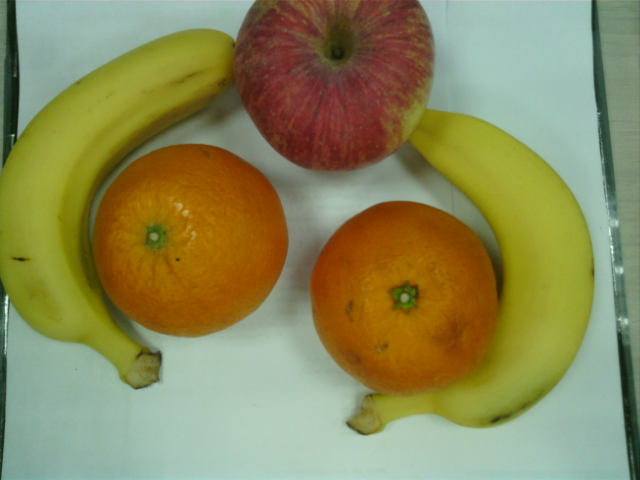normal_apple: (233, 1, 436, 172)
normal_banana: (346, 110, 596, 434), (4, 30, 232, 383)
normal_orange: (93, 144, 290, 335), (312, 201, 498, 395)
